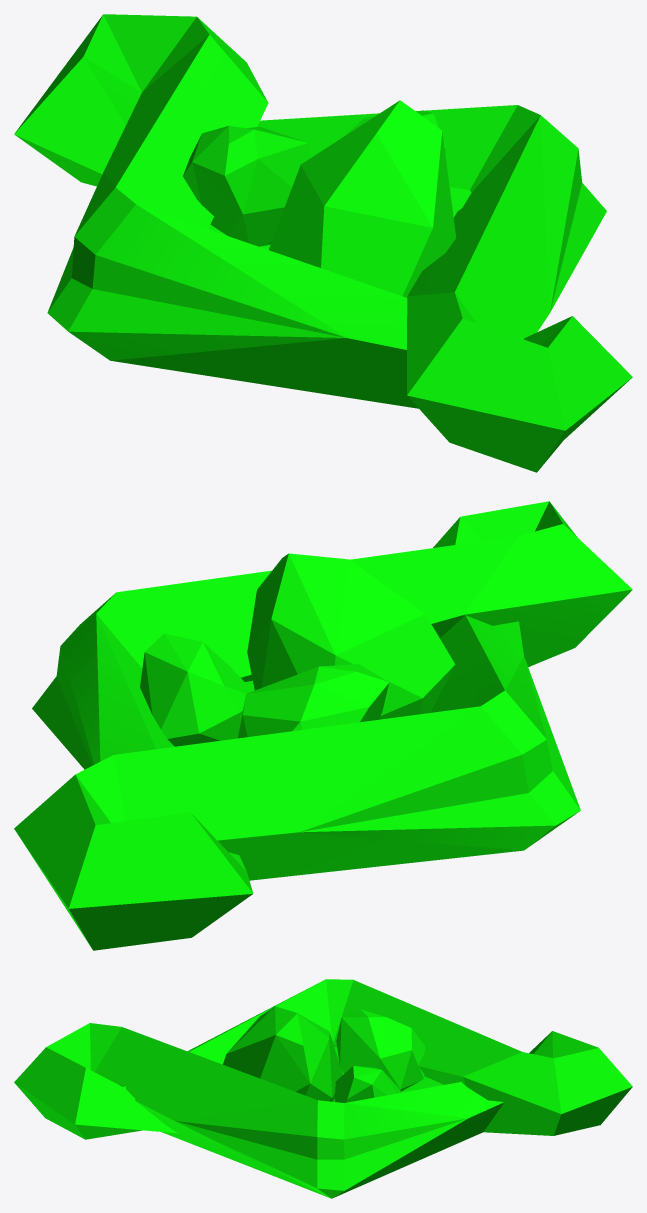
File: SM_Pastry_Puding_Fruit.fbx
The picture shows the model from 3 angles, top to bottom: view 1: azimuth 30°, elevation 25°; view 2: azimuth 150°, elevation 25°; view 3: azimuth 270°, elevation 25°; orthographic projection. The views are drawn at different scales.
Parts seen in each view (by area): view 1: pastry-puding-fruit; view 2: pastry-puding-fruit; view 3: pastry-puding-fruit.
Boxes of the visible parts, <box> form: pastry-puding-fruit: <box>14,14,632,472</box>; pastry-puding-fruit: <box>14,501,632,950</box>; pastry-puding-fruit: <box>14,979,632,1198</box>.
Bounding box in the file's own units: 0.1171 × 0.045 × 0.191.
